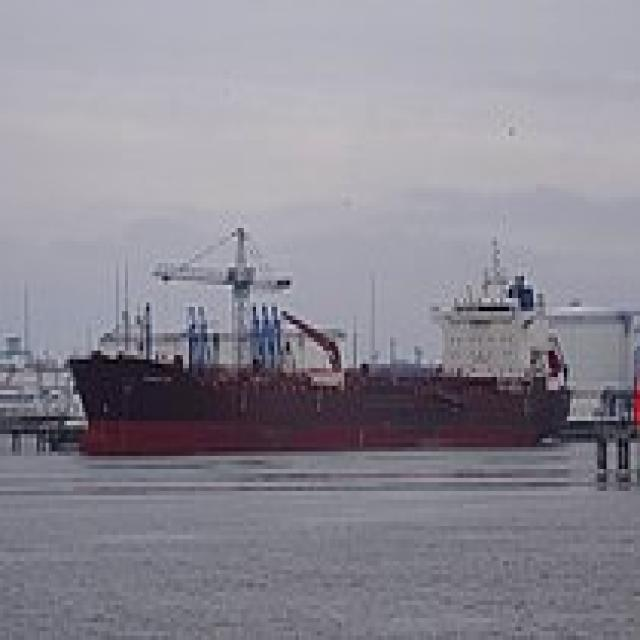Tanker: (61, 228, 570, 451)
